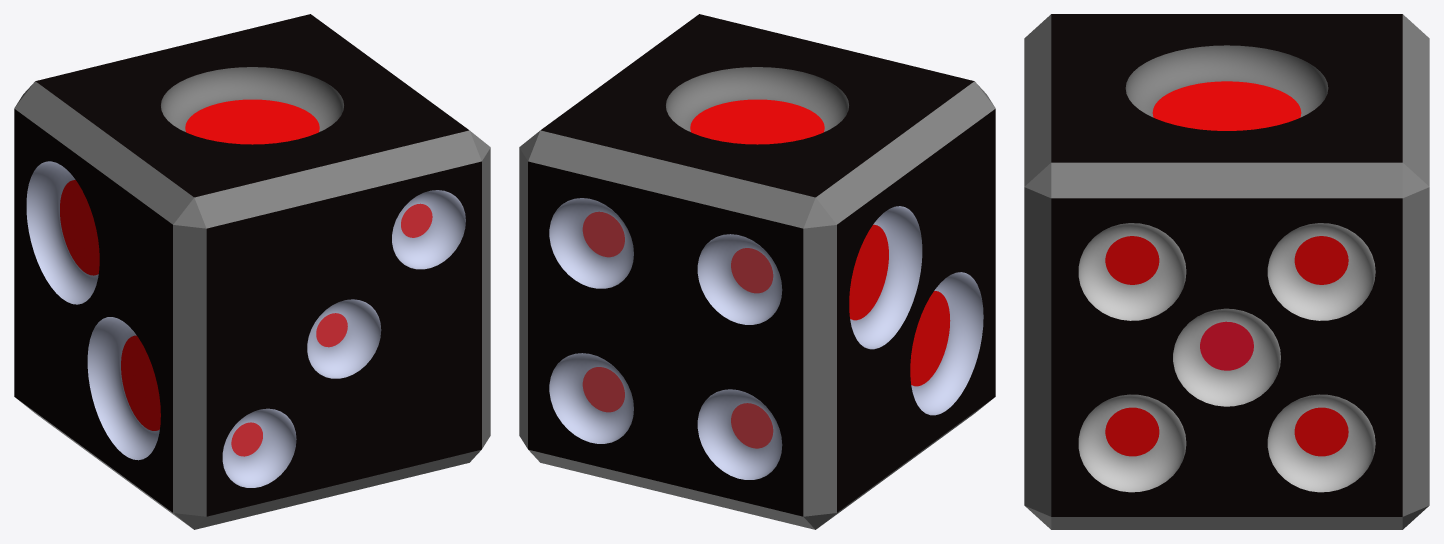
The model's file is saikoro.glb.
3 renders of one model, left to right at view 1: azimuth 30°, elevation 25°; view 2: azimuth 150°, elevation 25°; view 3: azimuth 270°, elevation 25°, orthographic. The views are drawn at different scales.
Parts seen in each view (by area): view 1: saikoro; view 2: saikoro; view 3: saikoro.
Boxes of the visible parts, x1,y1,x2,y2 form: saikoro: [14, 14, 490, 529]; saikoro: [519, 14, 995, 529]; saikoro: [1024, 14, 1429, 529].
Size of the model in its own units: 0.03 by 0.03 by 0.03.
